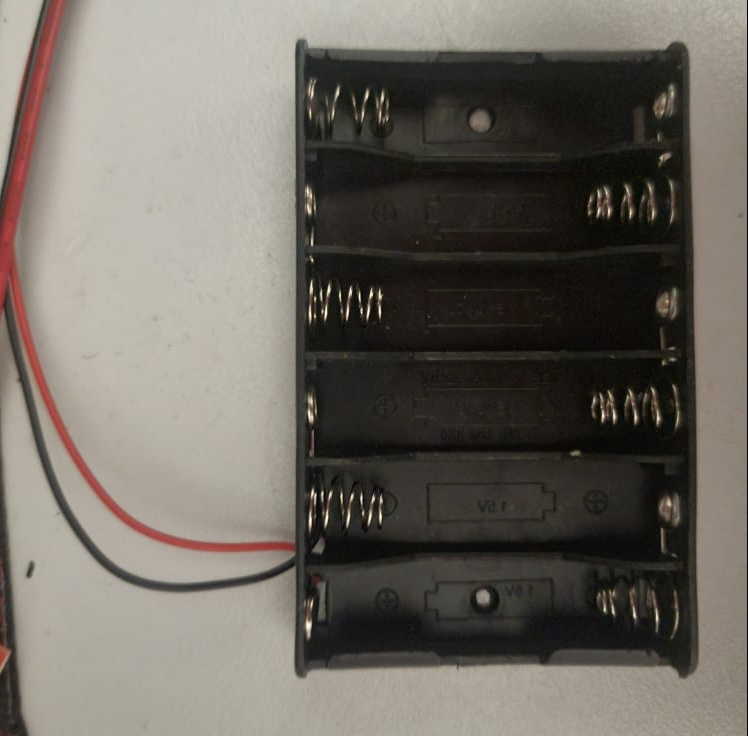BATTERY BOX: (291, 35, 703, 682)
